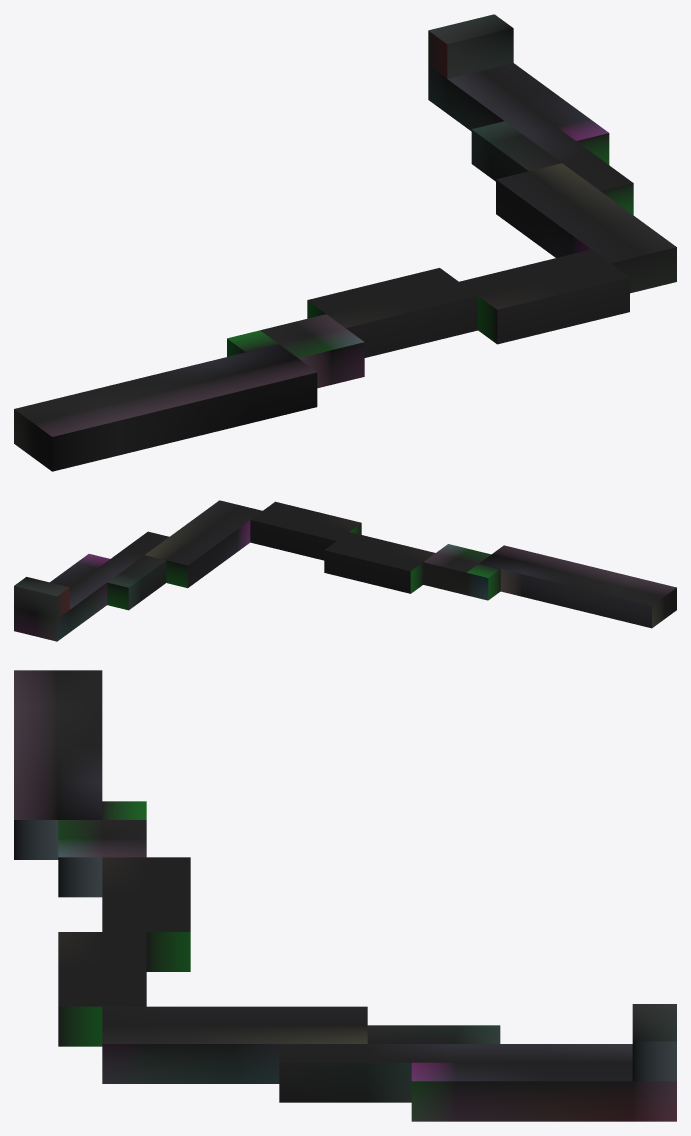
Rendered from Cable_J_00.fbx.
3 views of the same model, one above another, from view 1: azimuth 30°, elevation 25°; view 2: azimuth 150°, elevation 25°; view 3: azimuth 270°, elevation 25° (orthographic). The views are drawn at different scales.
Visible parts, largest first — view 1: Cable_J_00; view 2: Cable_J_00; view 3: Cable_J_00.
Boxes of the visible parts, x1,y1,x2,y2 form: Cable_J_00: [14, 14, 676, 471]; Cable_J_00: [14, 500, 676, 641]; Cable_J_00: [14, 670, 676, 1121].
Bounding box in the file's own units: 110 × 10 × 75.
